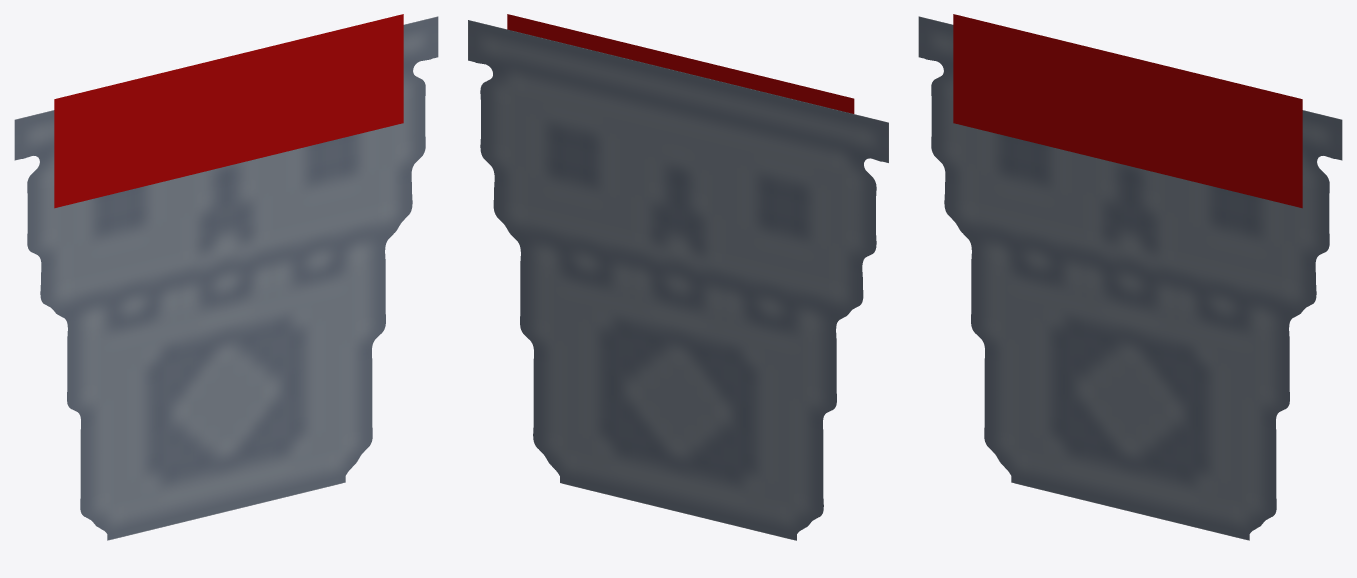
Rendered from MeantimeButto_down.fbx.
The picture shows the model from 3 angles, left to right: view 1: azimuth 30°, elevation 25°; view 2: azimuth 150°, elevation 25°; view 3: azimuth 330°, elevation 25°; orthographic projection.
Parts seen in each view (by area): view 1: polySurface2; view 2: polySurface2; view 3: polySurface2.
Part boxes in pixels (left/top/right/bottom): polySurface2: left=14, top=14, right=438, bottom=540; polySurface2: left=468, top=14, right=888, bottom=540; polySurface2: left=918, top=14, right=1342, bottom=540.
Size of the model in its own units: 1 by 1.03 by 0.01.
Materials: 2 (1 with a texture image).
